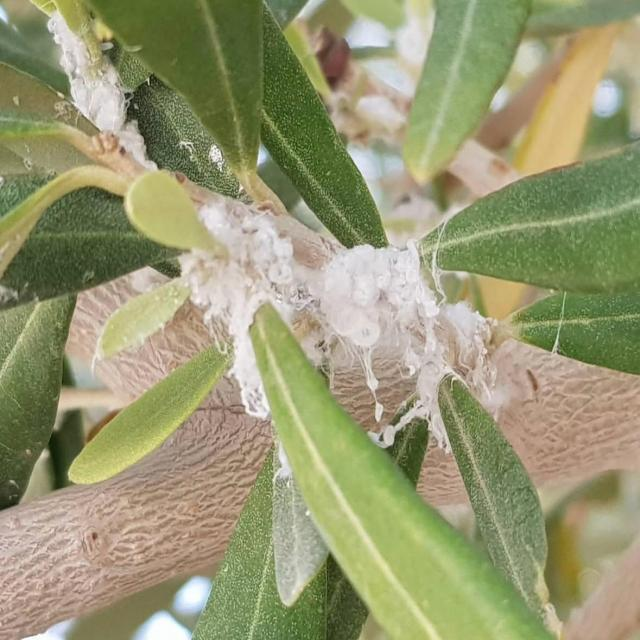Psyllid: (334, 240, 506, 453), (179, 180, 320, 418), (47, 10, 158, 177)
